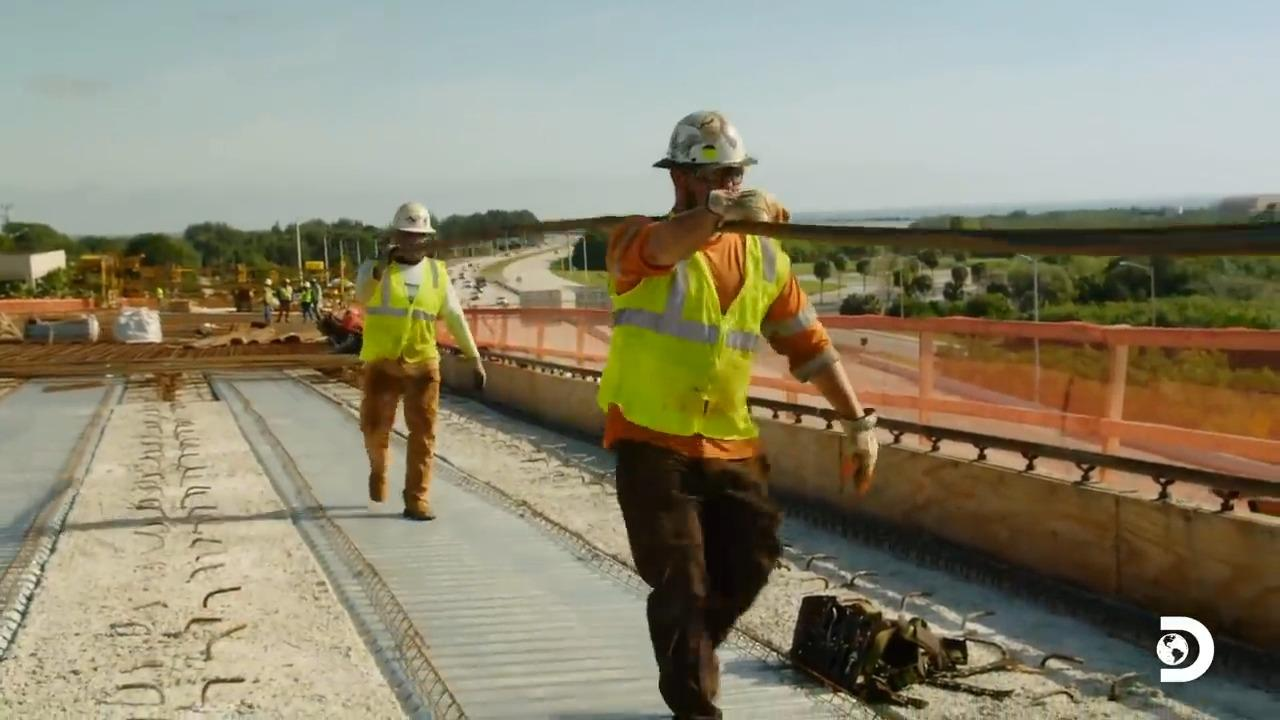Gloves: (713, 190, 794, 237), (833, 421, 887, 490)
Helmet: (651, 109, 757, 169), (390, 201, 436, 234)
Person: (595, 109, 879, 719), (351, 200, 486, 520)
Safety Boot: (365, 470, 392, 504), (405, 497, 442, 519)
Safety Vest: (617, 283, 771, 445), (370, 263, 452, 358)
